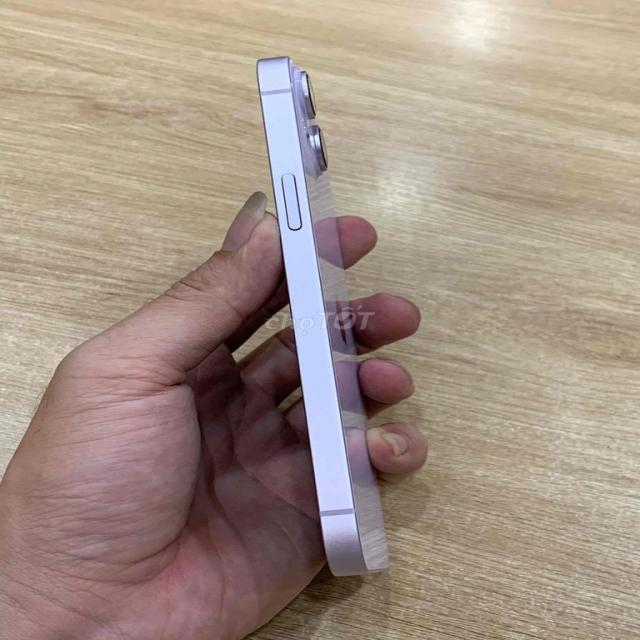gen_14: (247, 50, 412, 588)
